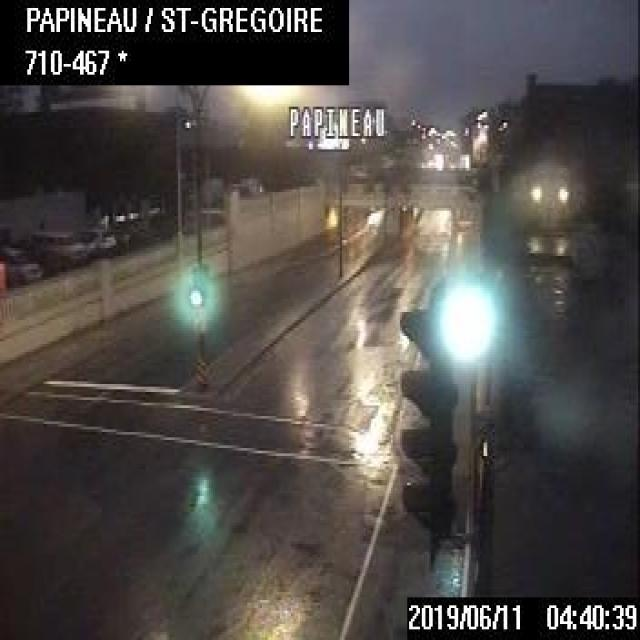vehicle: (32, 226, 88, 268), (0, 242, 43, 282), (78, 225, 116, 254)
